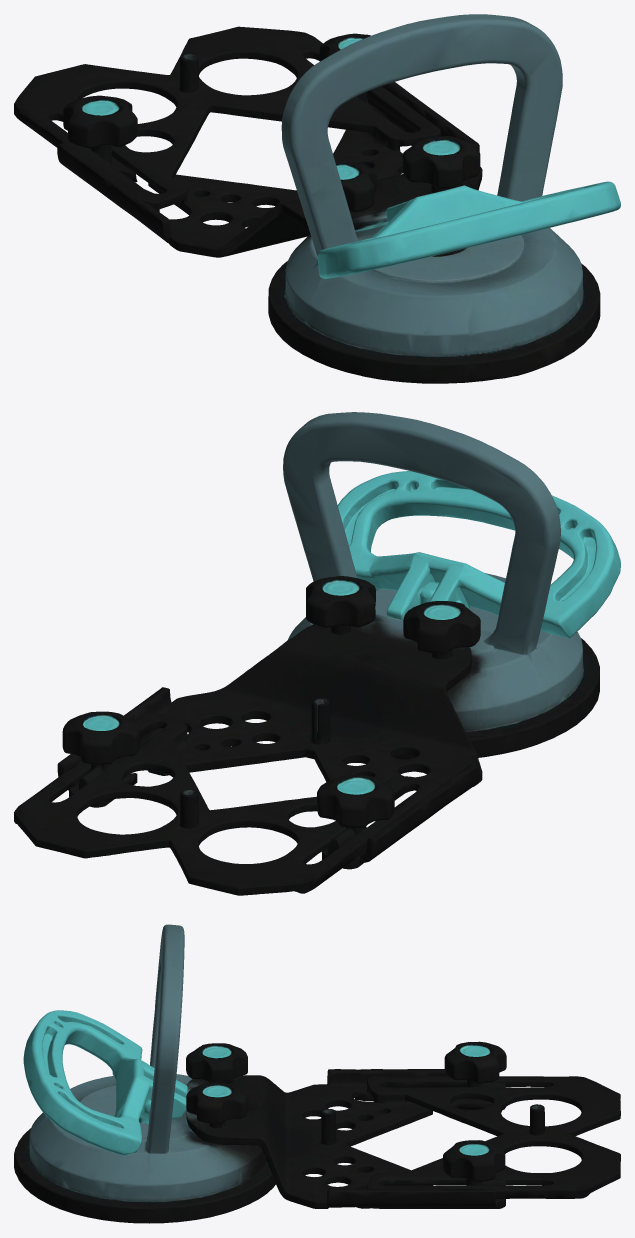
Rendered from metal-hole-drill-guide.glb.
3 renders of one model, top to bottom at view 1: azimuth 30°, elevation 25°; view 2: azimuth 150°, elevation 25°; view 3: azimuth 270°, elevation 25°, orthographic. The views are drawn at different scales.
Parts seen in each view (by area): view 1: tripo_node_1f55ffd1-cfaf-48a7-ac76-f0cf9062b448; view 2: tripo_node_1f55ffd1-cfaf-48a7-ac76-f0cf9062b448; view 3: tripo_node_1f55ffd1-cfaf-48a7-ac76-f0cf9062b448.
Boxes of the visible parts, box(x1,y1,x2,y2) form: tripo_node_1f55ffd1-cfaf-48a7-ac76-f0cf9062b448: box(14, 14, 620, 383); tripo_node_1f55ffd1-cfaf-48a7-ac76-f0cf9062b448: box(14, 412, 620, 895); tripo_node_1f55ffd1-cfaf-48a7-ac76-f0cf9062b448: box(14, 924, 620, 1223).
Bounding box in the file's own units: 0.4857 × 0.4004 × 0.9999.
Materials: 1 (1 with a texture image).
